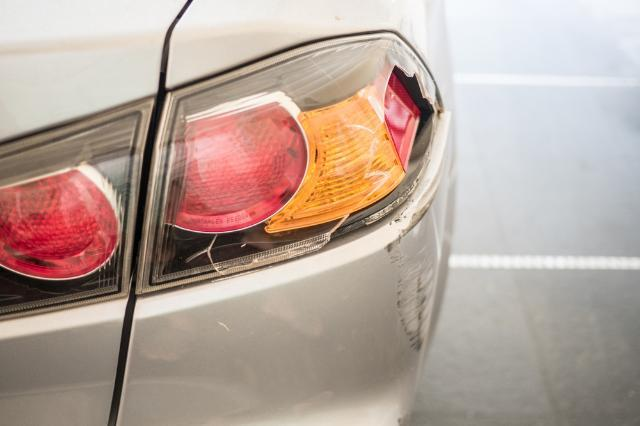lamp broken: (138, 31, 442, 291)
scratch: (385, 195, 437, 351)
